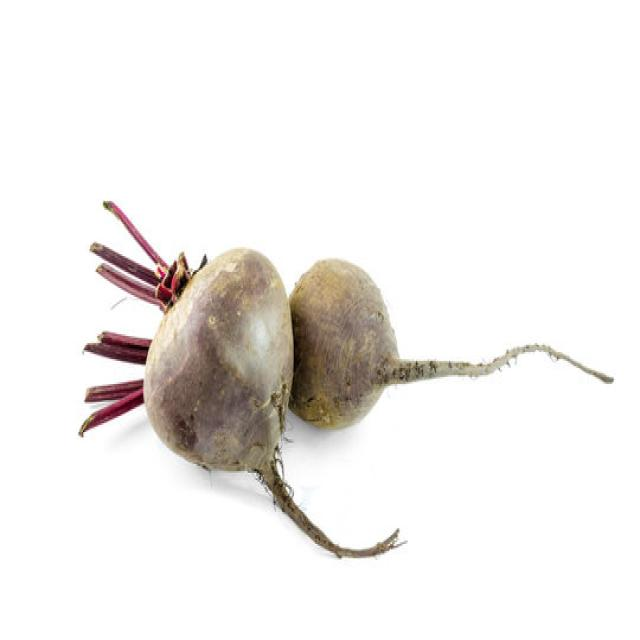Beetroot: (287, 256, 614, 430), (141, 249, 318, 558)
